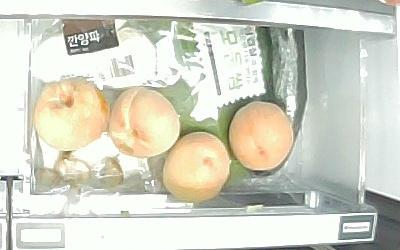peach: (34, 78, 110, 151), (108, 87, 180, 159), (162, 131, 230, 203), (228, 101, 293, 171)
